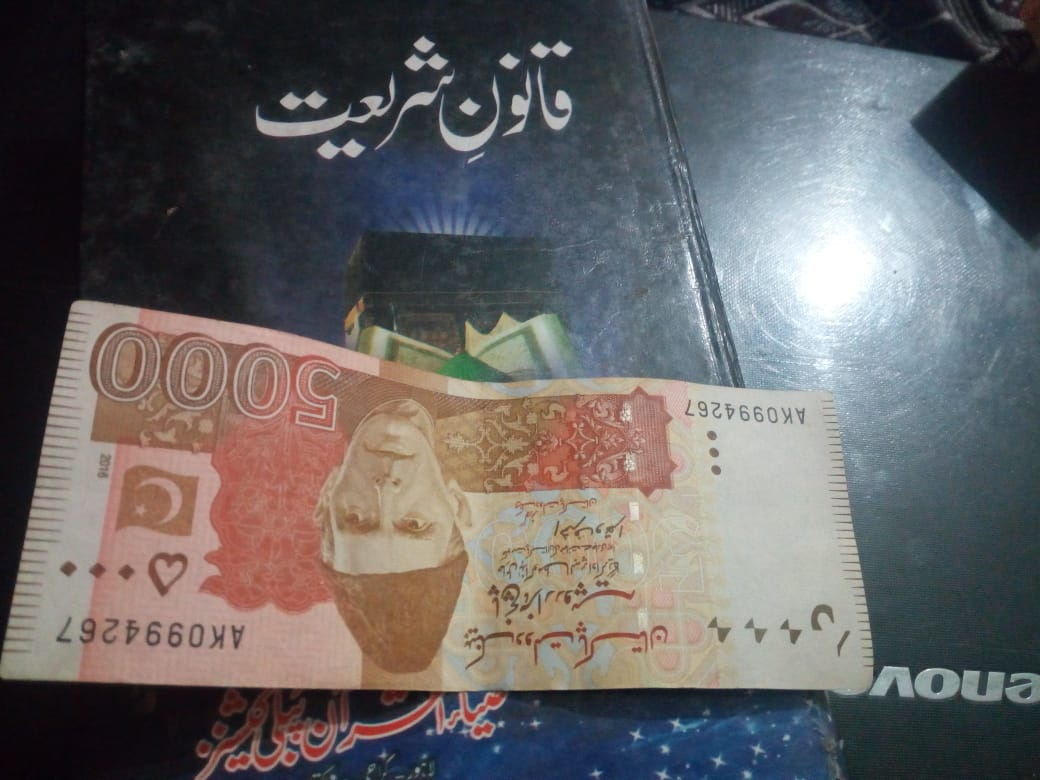5000 rupee: (25, 295, 895, 707)
